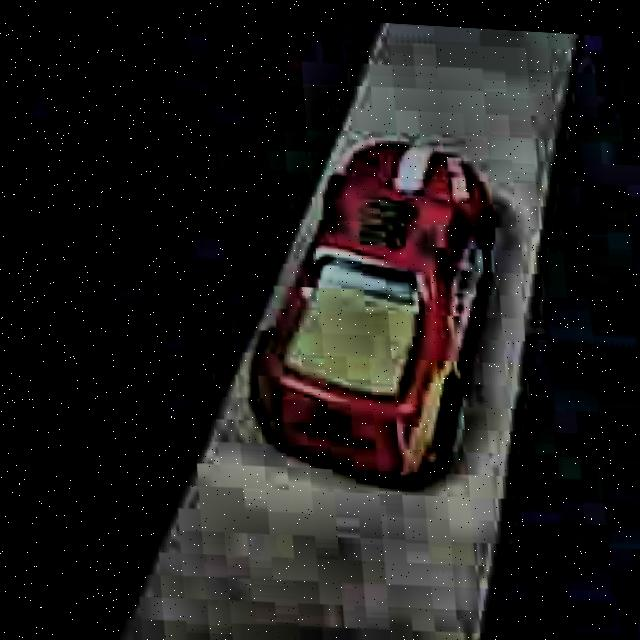car: (225, 124, 519, 505)
